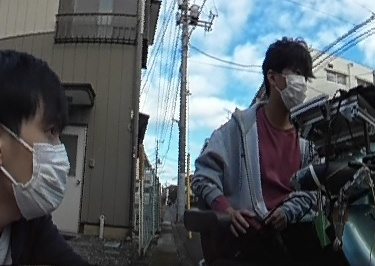person: (196, 34, 318, 247)
